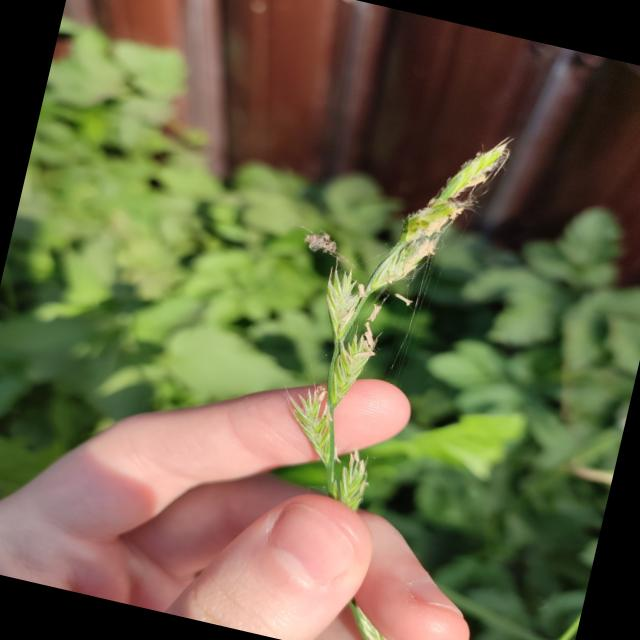Lolium: (210, 93, 523, 640)
